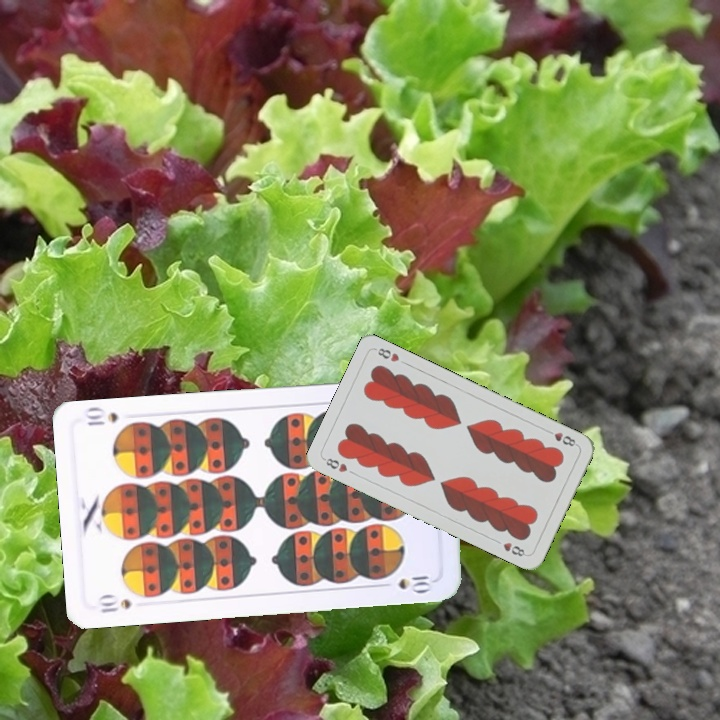H8: (542, 426, 580, 449), (320, 454, 350, 475)
S10: (94, 591, 134, 615)
